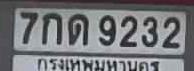2: (119, 15, 136, 45), (162, 16, 178, 47)
3: (141, 16, 157, 46)
7: (20, 11, 37, 43)
9: (98, 14, 115, 45)
A01: (41, 12, 61, 44)
A20: (68, 13, 88, 44)
BKK: (38, 54, 159, 71)
